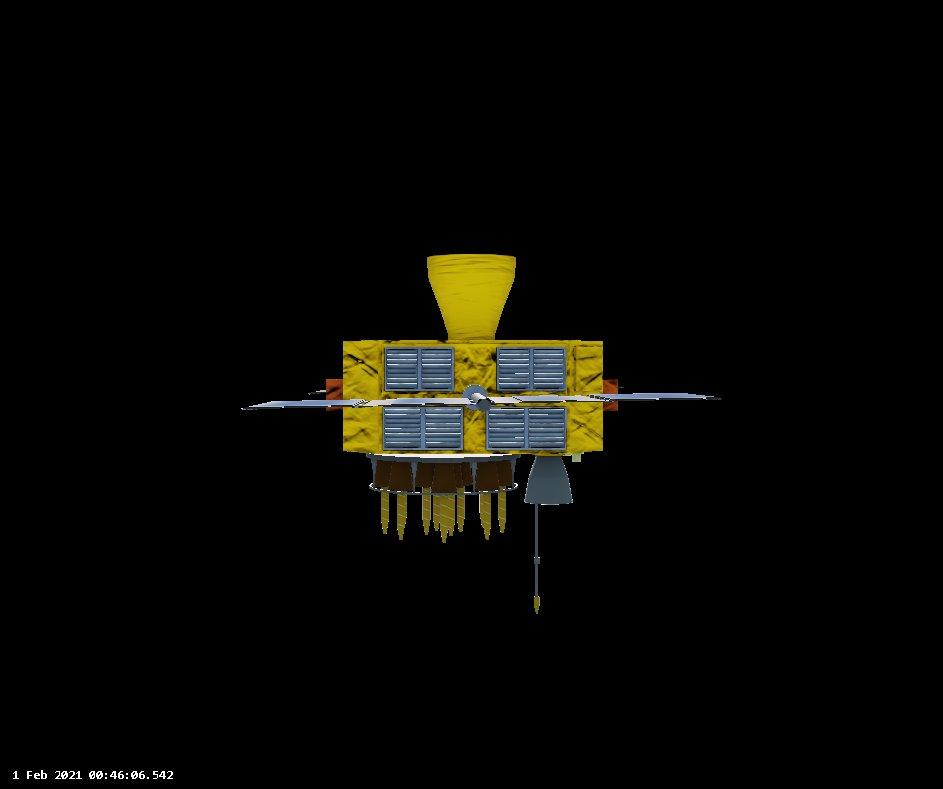antenna: (389, 458, 416, 543), (473, 460, 500, 539), (415, 461, 437, 540), (374, 460, 395, 540), (453, 460, 474, 535), (532, 497, 543, 616), (496, 461, 513, 535), (436, 465, 451, 541)
body: (333, 335, 613, 459)
solar: (240, 386, 729, 411)
thruster: (423, 250, 518, 339), (520, 452, 575, 509)
